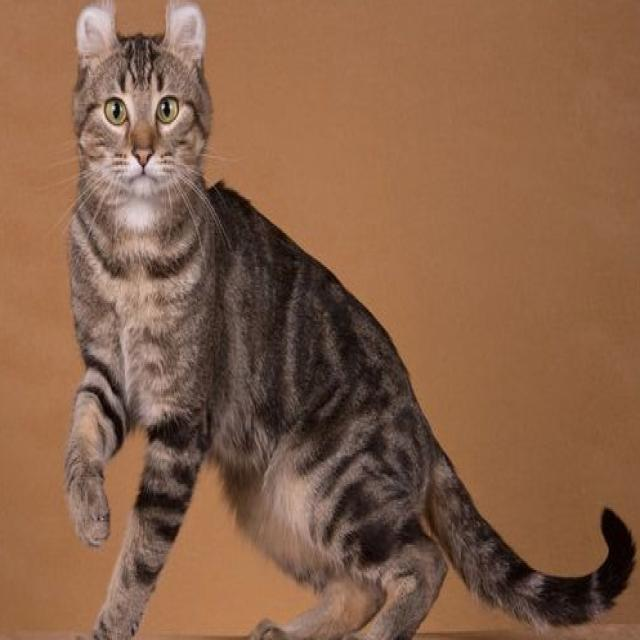American Curl: (55, 0, 640, 640)
